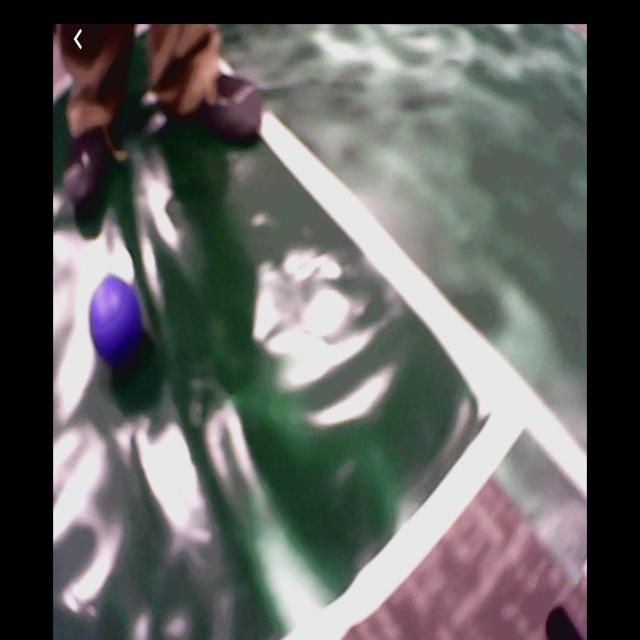ball: (89, 274, 140, 362)
